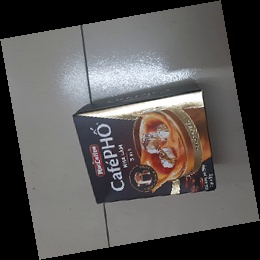CF pho: (71, 85, 218, 205)
